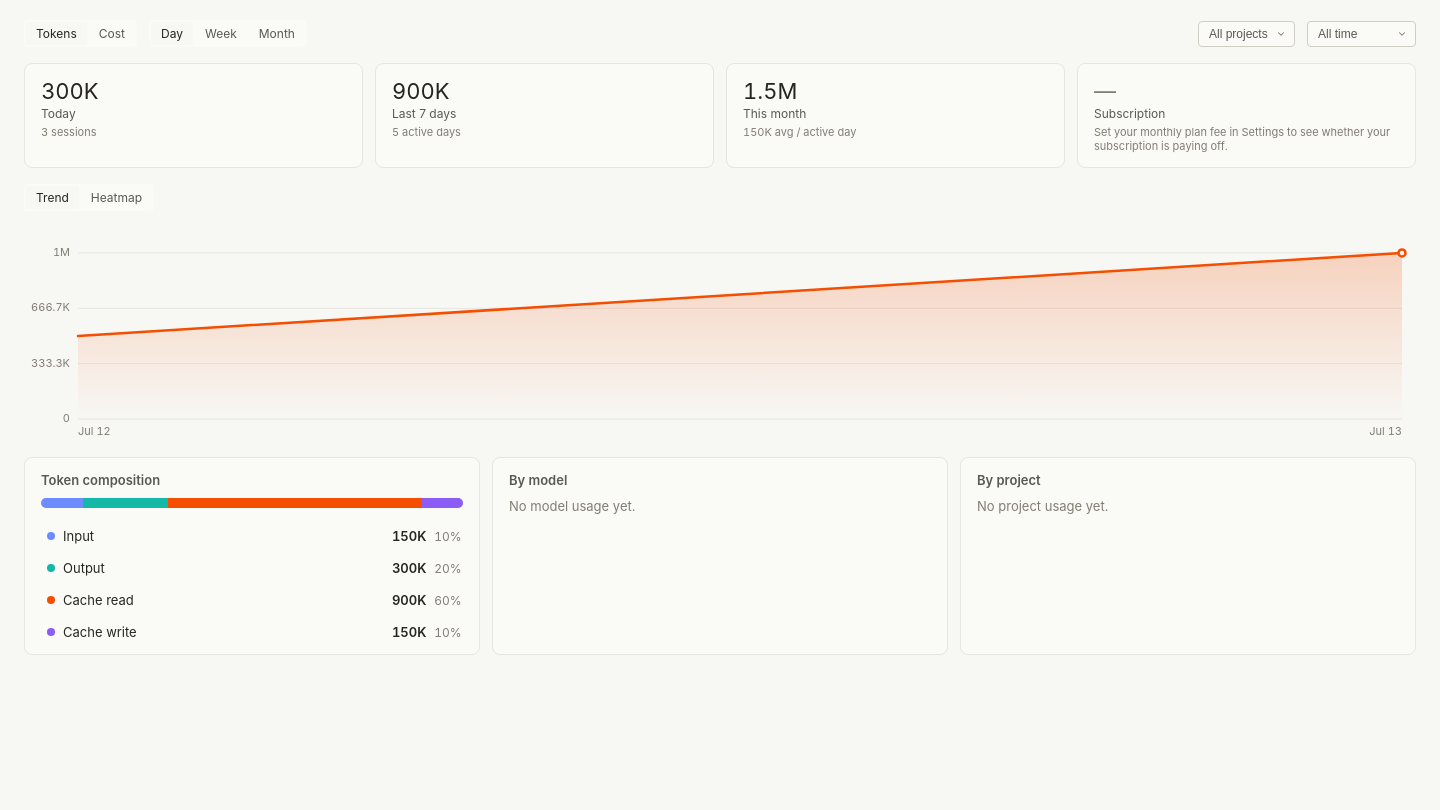
Test case: UsageDashboard › shades the heatmap by the active metric
The image size is (1440, 810).
What coordinates should you click on to do the following:
click the button "Cost"
I would click on:
 (112, 34)
Its box is [89, 22, 135, 45].
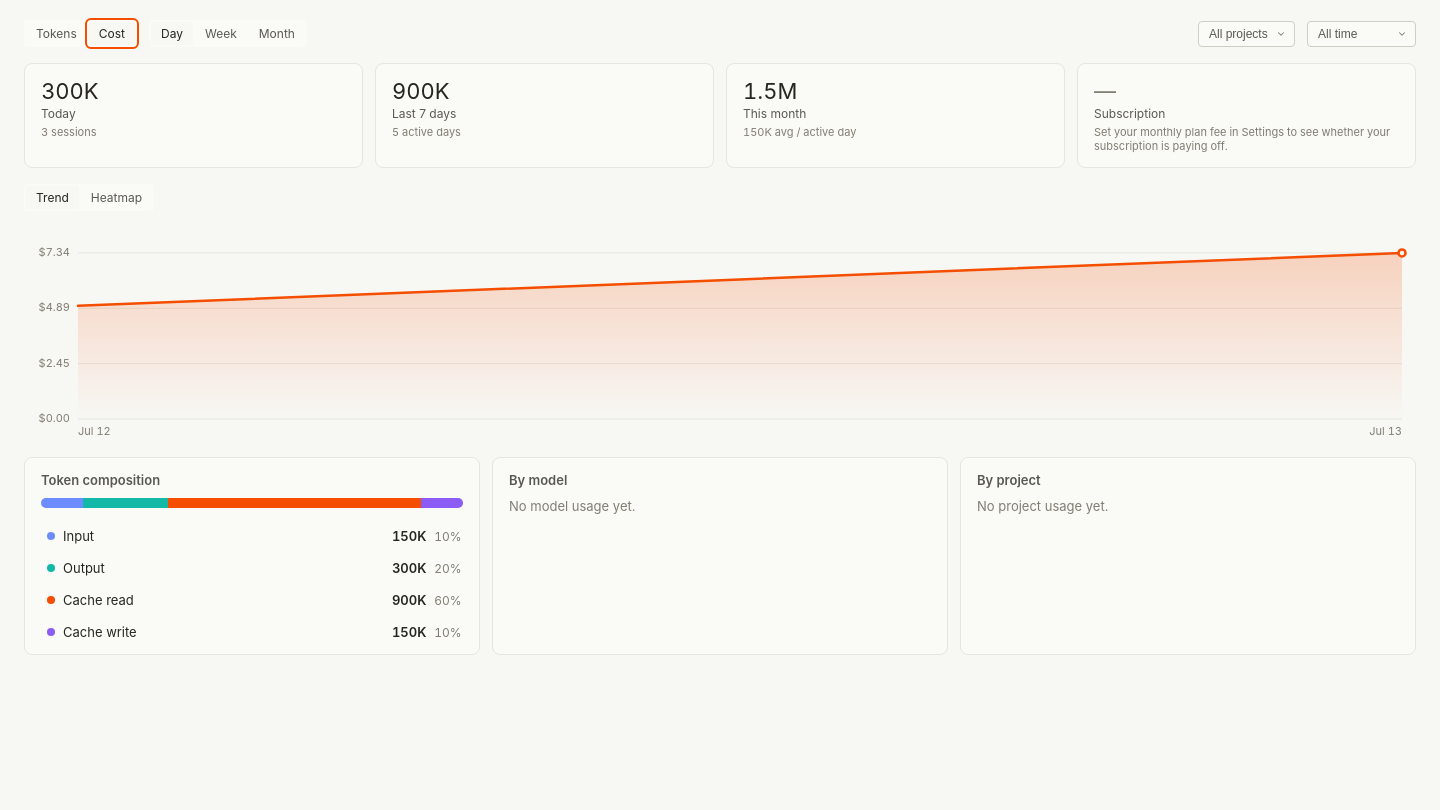
What coordinates should you click on to do the following:
click the button "Heatmap"
I would click on:
 (116, 198)
Its box is [81, 186, 152, 209].
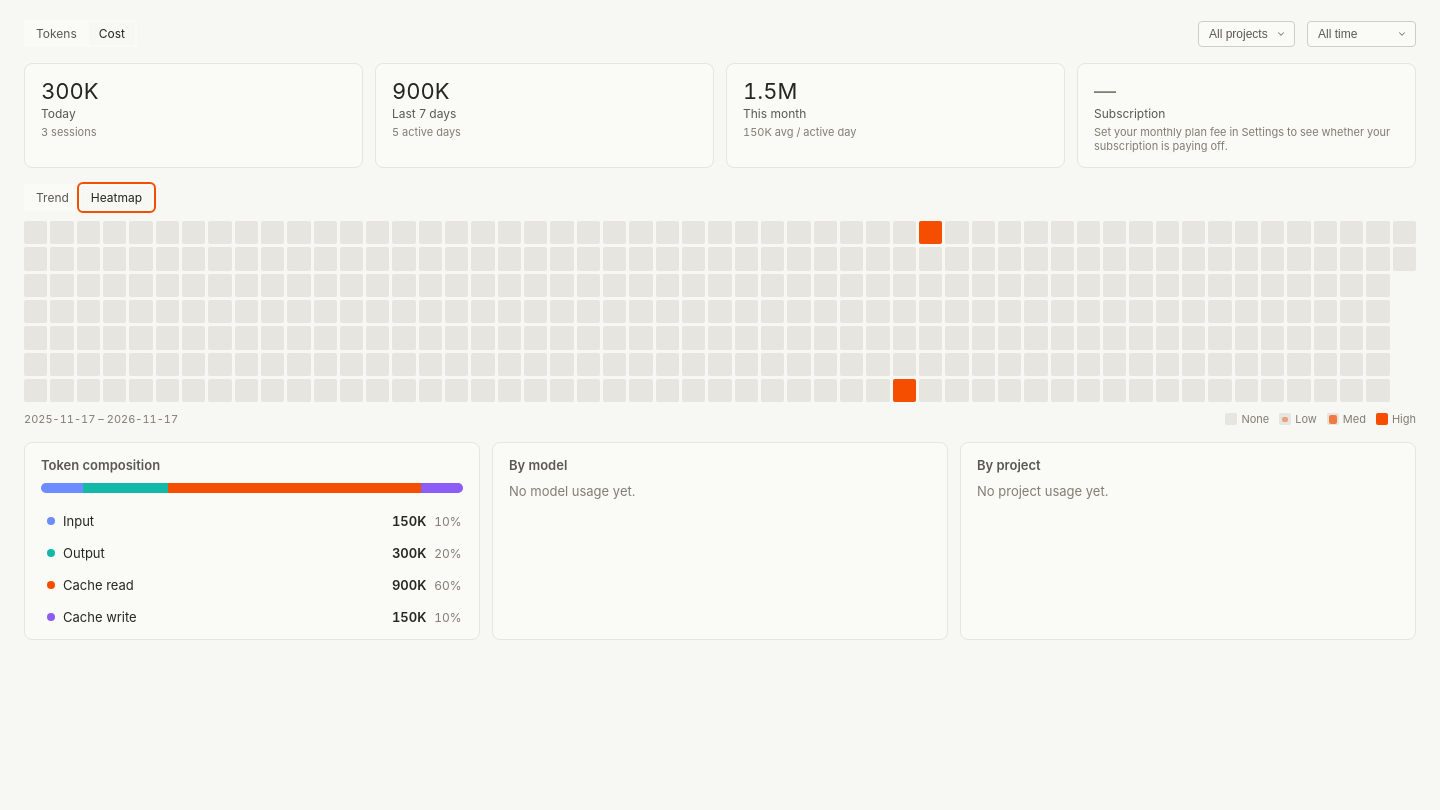
Result: the picture named "activity heatmap by cost" is shown at [24, 221, 1416, 402]
